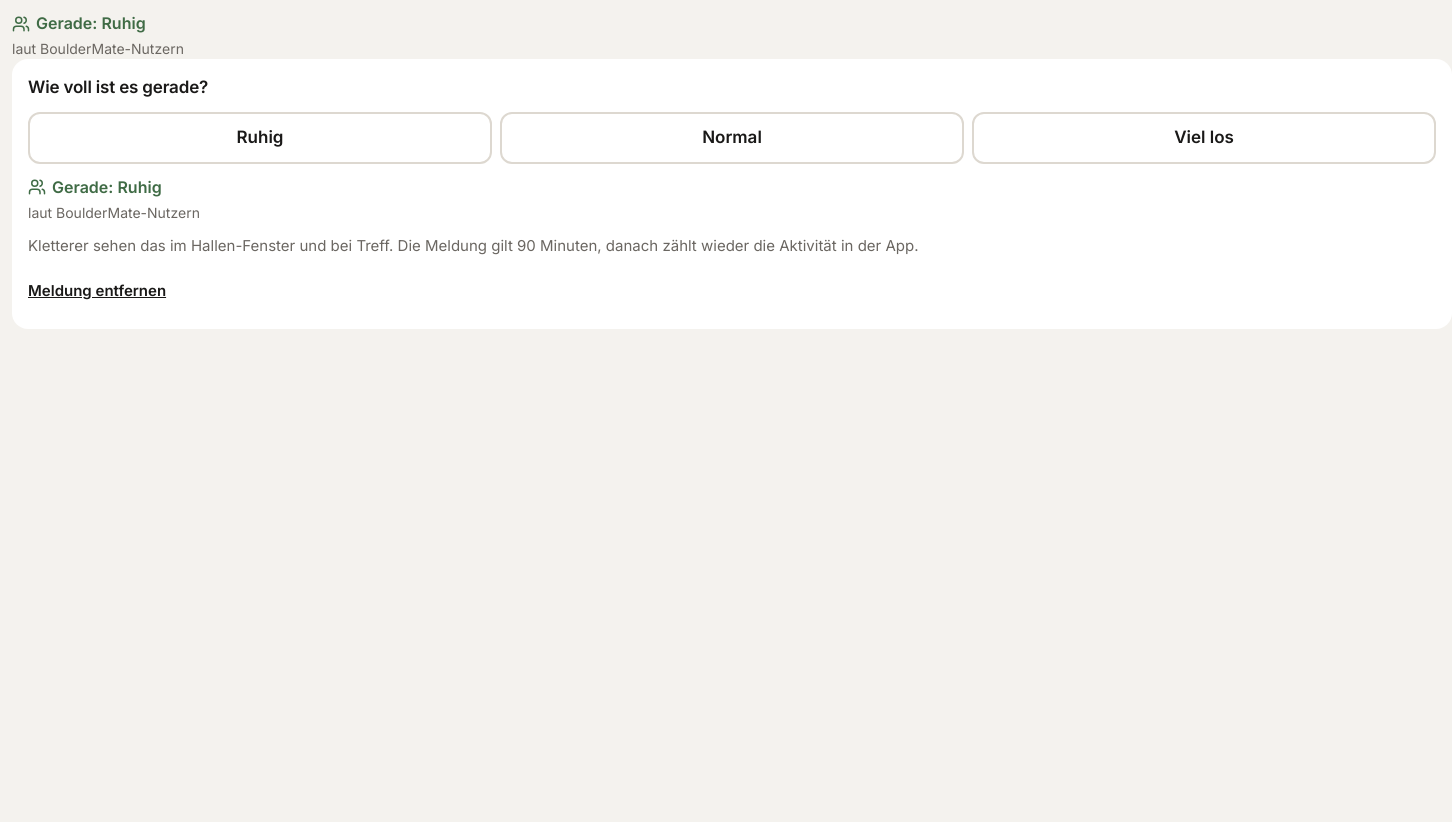
Test case: SPEC-041: Wie voll ist die Halle? › Anzeige ohne Zahl; Admin-Knöpfe setzen die Stufe sichtbar (AC-3/AC-4)
Expected: the element with test id "crowd-badge" shows "Gerade: Ruhig", top-left (36, 13), bottom-right (146, 33)
Expected: the element with test id "crowd-badge" shows "laut BoulderMate-Nutzern", top-left (12, 40), bottom-right (184, 57)
Step 1. Click the button with test id "gym-crowd-voll" → (1204, 138), box top-left (972, 112), bottom-right (1436, 164)
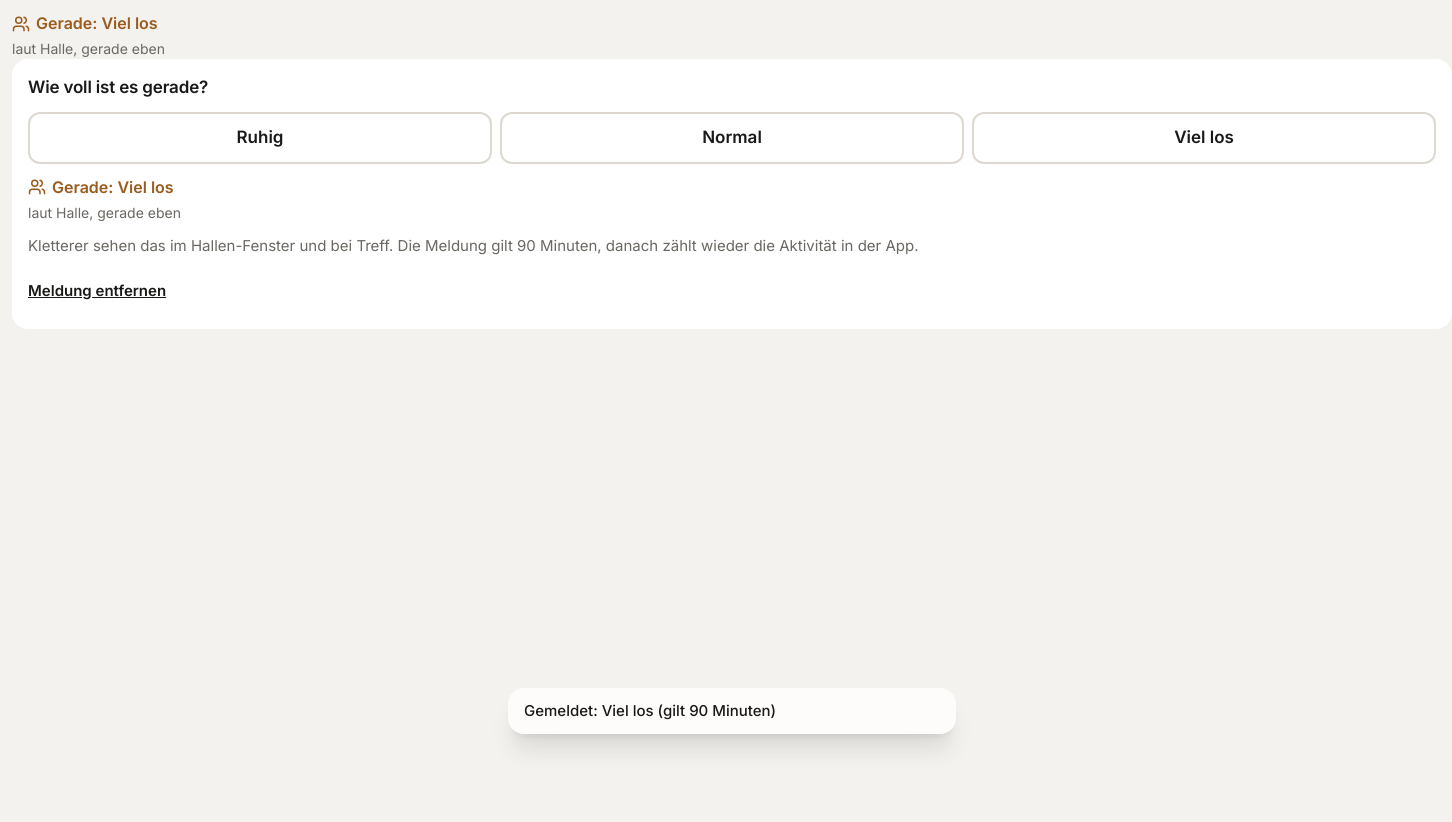
Now the element with test id "crowd-badge" shows "Gerade: Viel los", box top-left (36, 13), bottom-right (158, 33)
Now the element with test id "crowd-badge" shows "laut Halle", box top-left (12, 40), bottom-right (165, 57)
